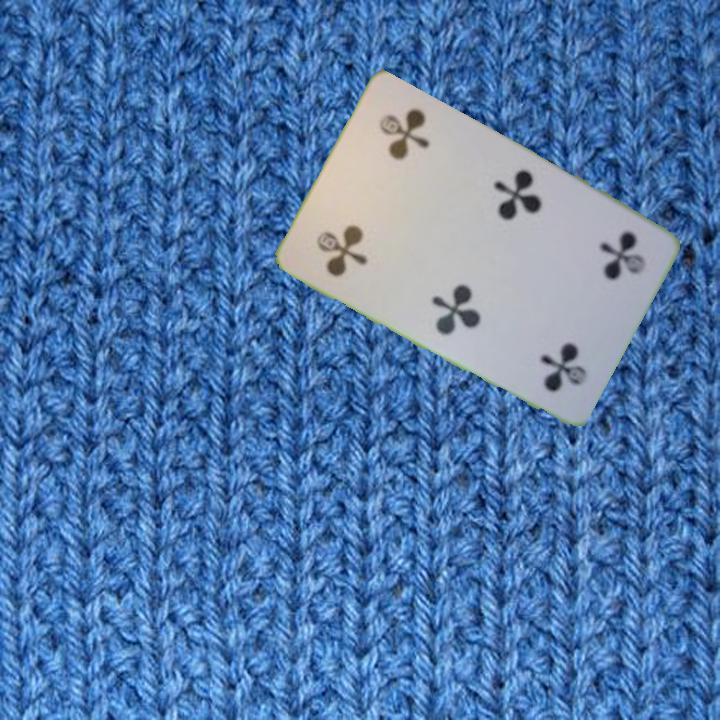c_6.png: (544, 202, 665, 329), (292, 171, 413, 298)
